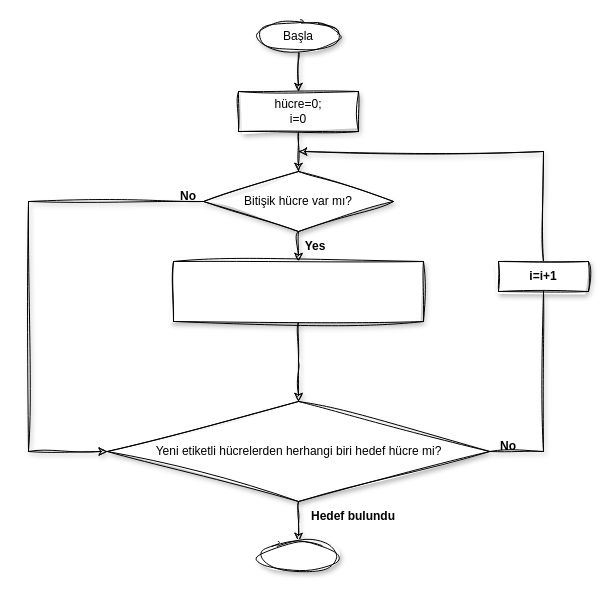
The diagram is 612 pixels wide and 596 high, and some of its shapes have lost their labels. The shapes that lost their labels are listed below. From the top down, each one's centre as x and y in pixels, then its label:
At (x=299, y=292): "Etiketli her hücre için, etiketlenmemiş bitişik tüm hücreleri etiketliyorum. i+1".
At (x=299, y=557): "Bitir".
